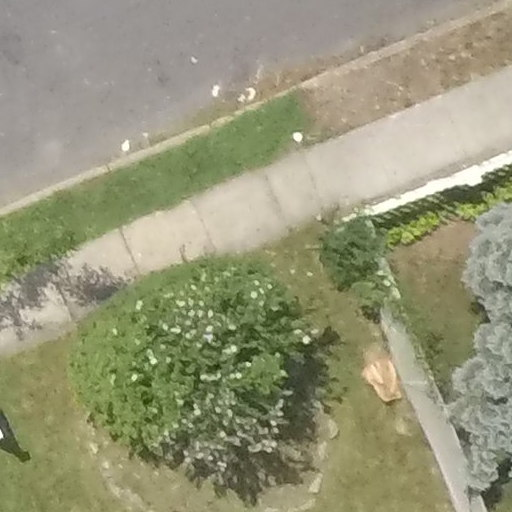fence: (332, 208, 493, 512), (339, 140, 512, 242)
